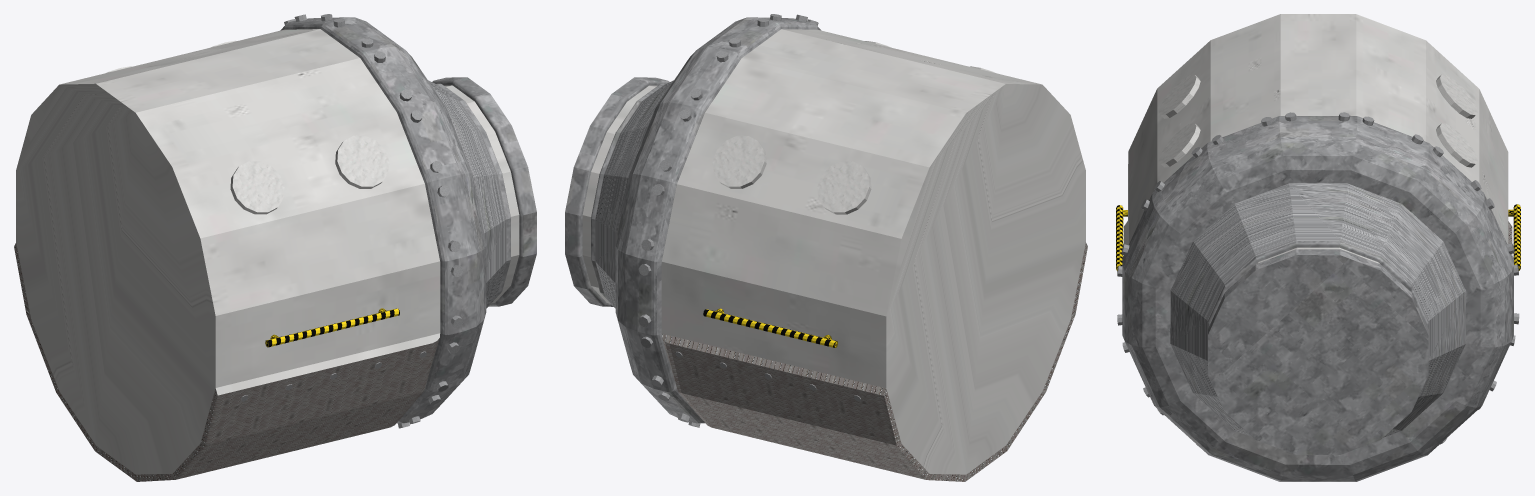
The model's file is Module-2.glb.
3 renders of one model, left to right at view 1: azimuth 30°, elevation 25°; view 2: azimuth 150°, elevation 25°; view 3: azimuth 270°, elevation 25°, orthographic. The views are drawn at different scales.
Visible parts, largest first — view 1: Hull, Protection, Hull.001, Cylinder.002, Cylinder, Bar; view 2: Hull, Protection, Hull.001, Cylinder.002, Cylinder, Bar.001; view 3: Protection, Hull, Cylinder.002, Cylinder, Bar.001, Bar.
Boxes of the visible parts, x1=… form: Hull: x1=16, y1=29, x2=519, y2=474; Protection: x1=280, y1=17, x2=536, y2=423; Hull.001: x1=14, y1=243, x2=439, y2=481; Cylinder.002: x1=106, y1=40, x2=389, y2=214; Cylinder: x1=284, y1=14, x2=463, y2=428; Bar: x1=265, y1=308, x2=399, y2=347; Hull: x1=582, y1=29, x2=1085, y2=474; Protection: x1=565, y1=17, x2=821, y2=423; Hull.001: x1=662, y1=242, x2=1087, y2=481; Cylinder.002: x1=712, y1=41, x2=994, y2=214; Cylinder: x1=638, y1=14, x2=818, y2=427; Bar.001: x1=703, y1=308, x2=837, y2=347; Protection: x1=1122, y1=116, x2=1513, y2=481; Hull: x1=1124, y1=14, x2=1508, y2=263; Cylinder.002: x1=1158, y1=74, x2=1477, y2=167; Cylinder: x1=1117, y1=112, x2=1519, y2=446; Bar.001: x1=1508, y1=204, x2=1520, y2=270; Bar: x1=1116, y1=205, x2=1127, y2=271.
Bounding box in the file's own units: 12 × 12.08 × 12.16.
Materials: 5 (5 with a texture image).
